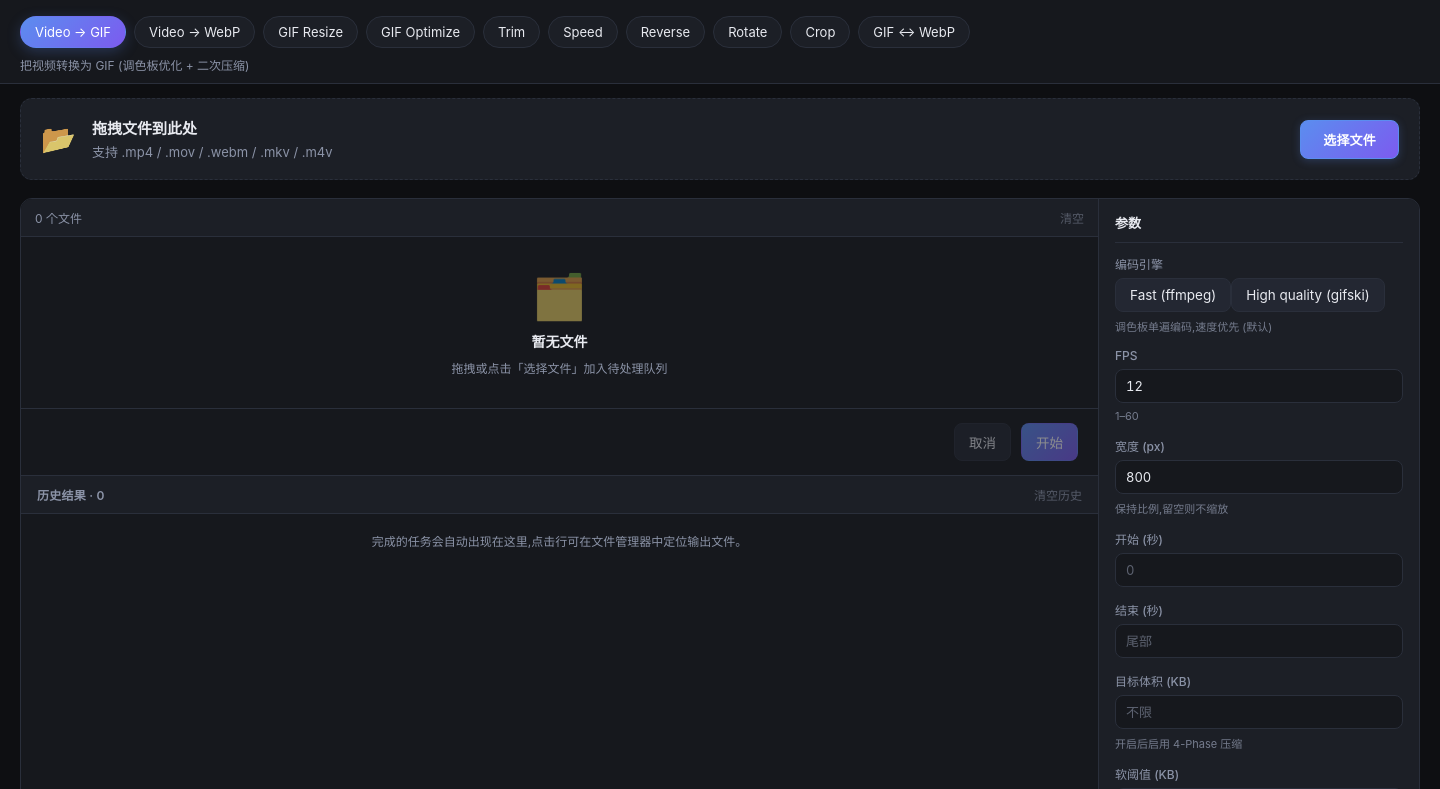
ToolboxPanel › GIF ↔ WebP chip renders both radios with webp pre-selected and lets the user flip
This screenshot has width=1440, height=789.
Click the tab "GIF ↔ WebP" at (914,32), box [858, 16, 970, 48]
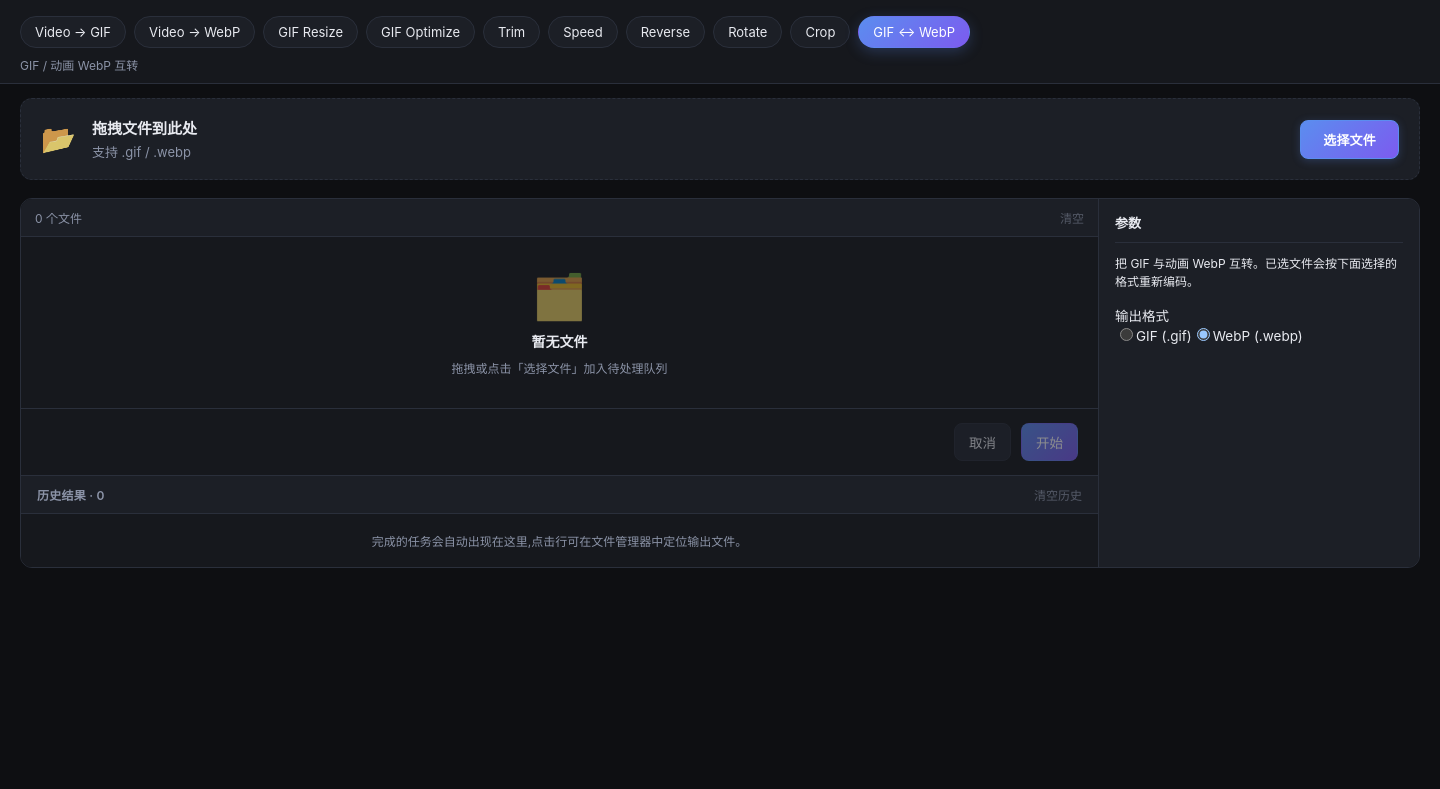
Result: the number of radio buttons named "gwc-target" is 2
Result: the radio button named "gwc-target" holds "gif"
Result: the radio button named "gwc-target" holds "webp" at [1197, 328, 1210, 341]
Click the radio button named "gwc-target" at (1126,334), box [1120, 328, 1133, 341]
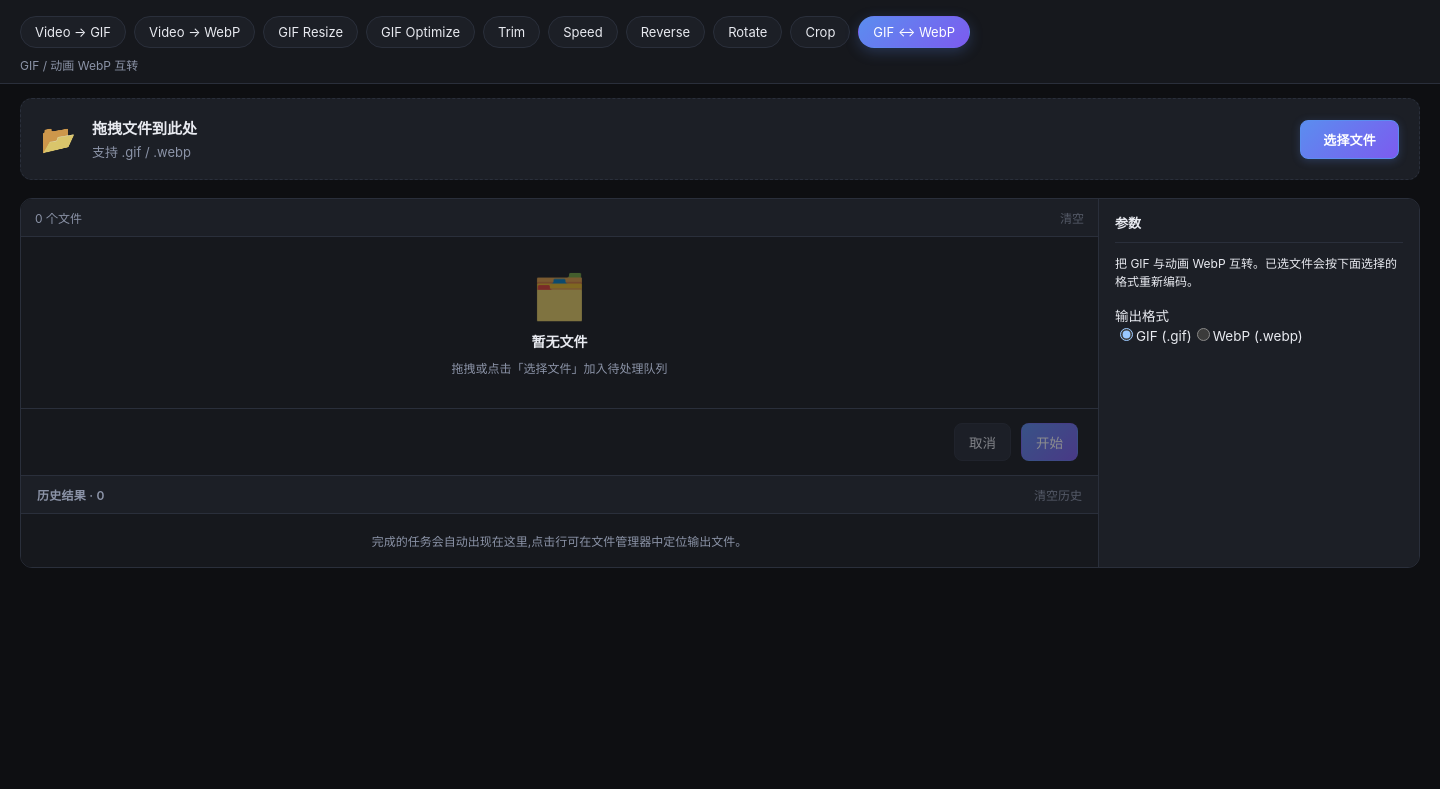
Result: the radio button named "gwc-target" is checked at [1120, 328, 1133, 341]
Result: the radio button named "gwc-target" is not checked at [1197, 328, 1210, 341]
